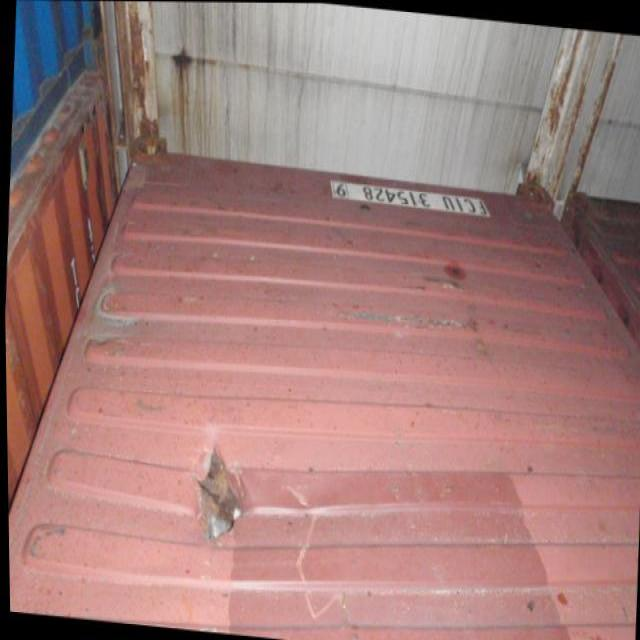hole: (189, 431, 251, 554)
